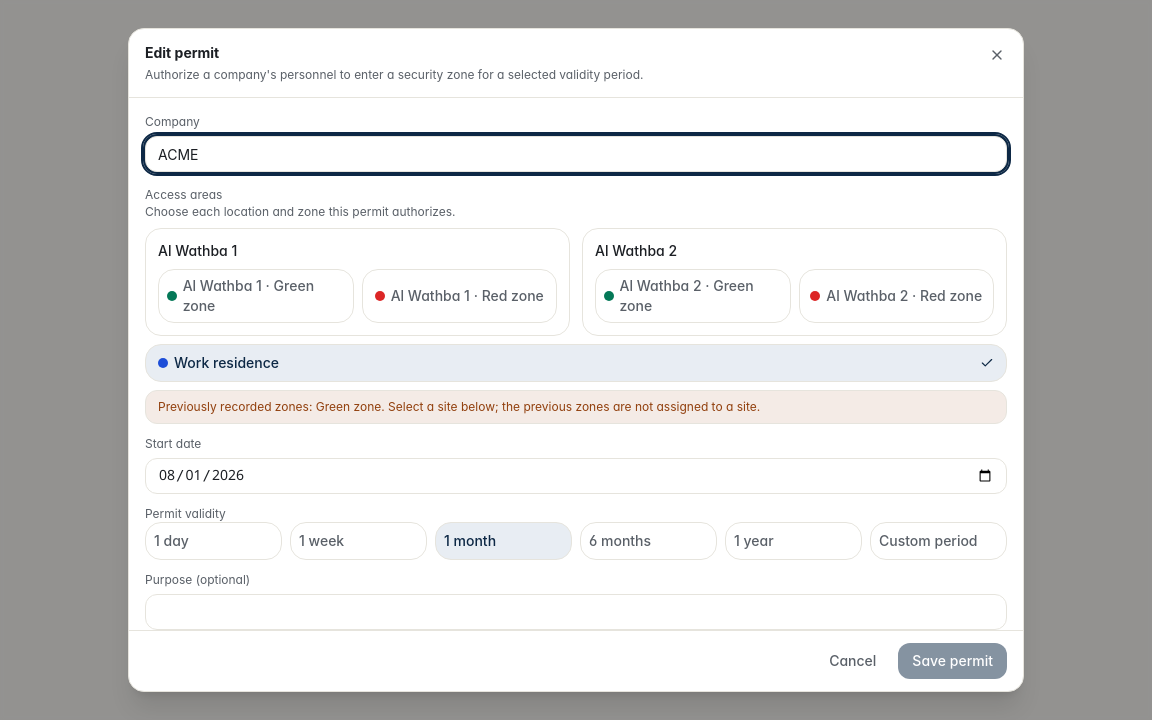
Test: PermitFormDialog › keeps legacy locations unspecified until a site is selected
Check: the text "Previously recorded" is shown, box left=158, top=399, right=760, bottom=414
Check: the button "Save permit" is disabled, box left=898, top=643, right=1007, bottom=679
Step 1. Click the button "Al Wathba 2 · Red zone" → (896, 296), box left=798, top=269, right=994, bottom=323
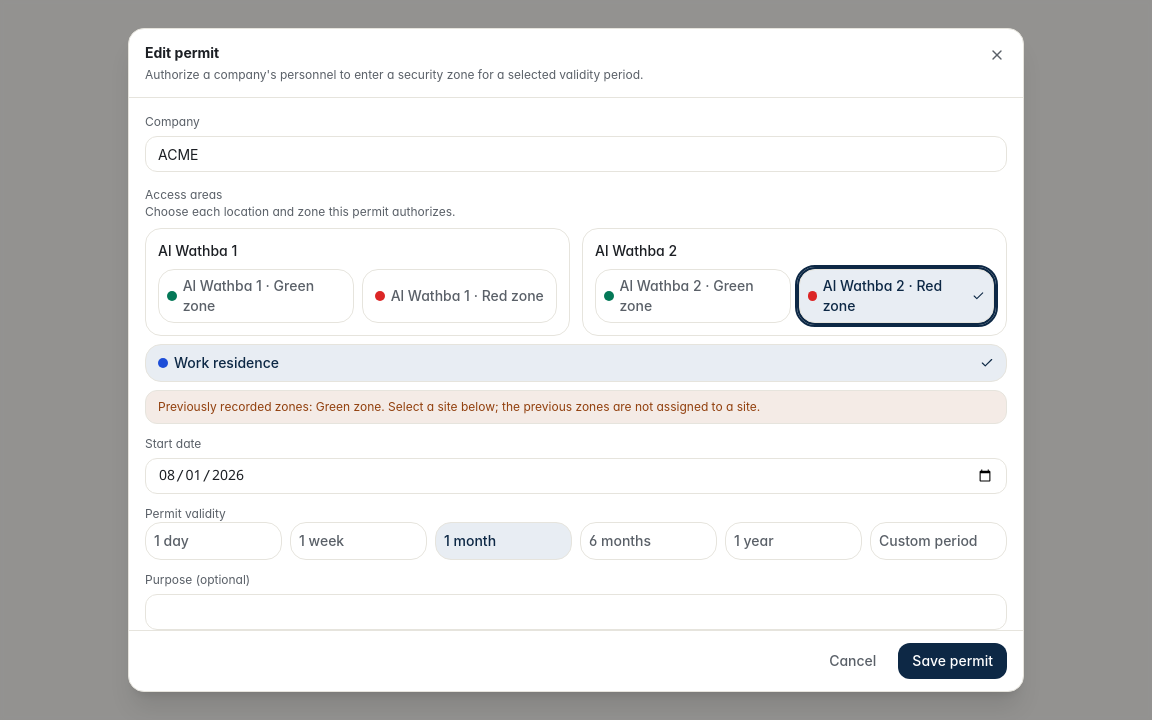
Check: the button "Save permit" is enabled, box left=898, top=643, right=1007, bottom=679
